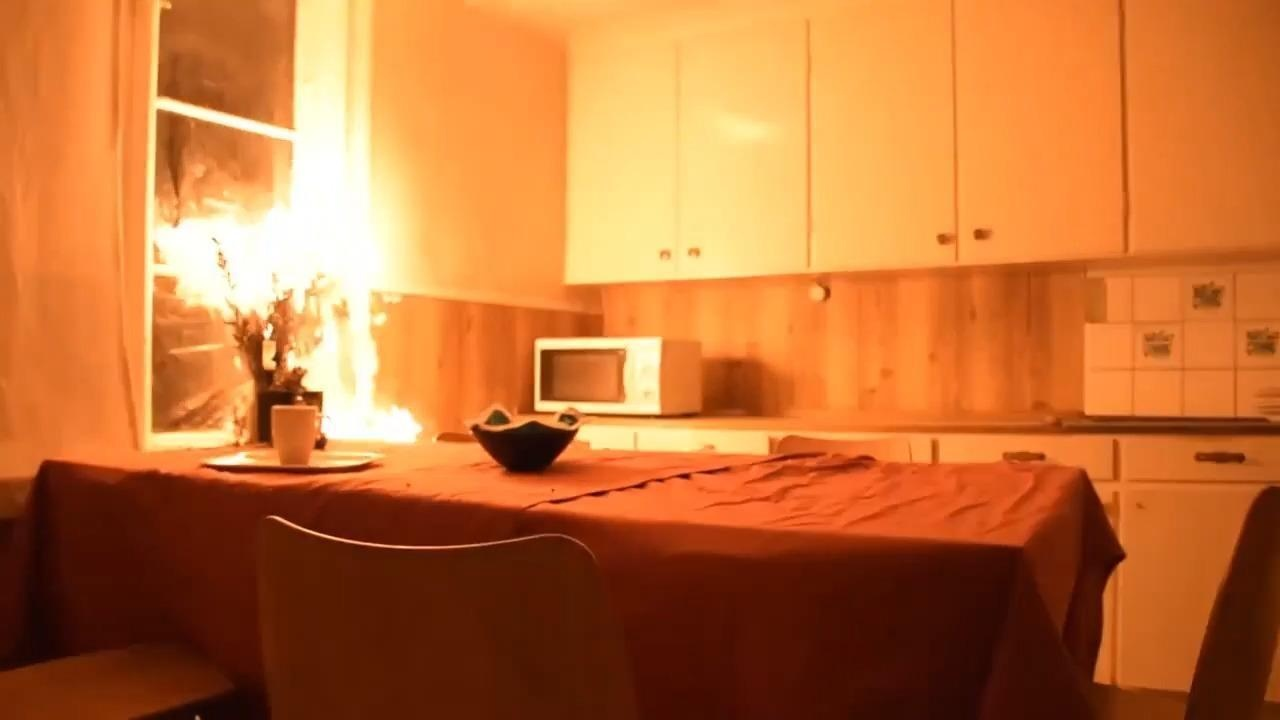fire: (146, 145, 437, 450)
